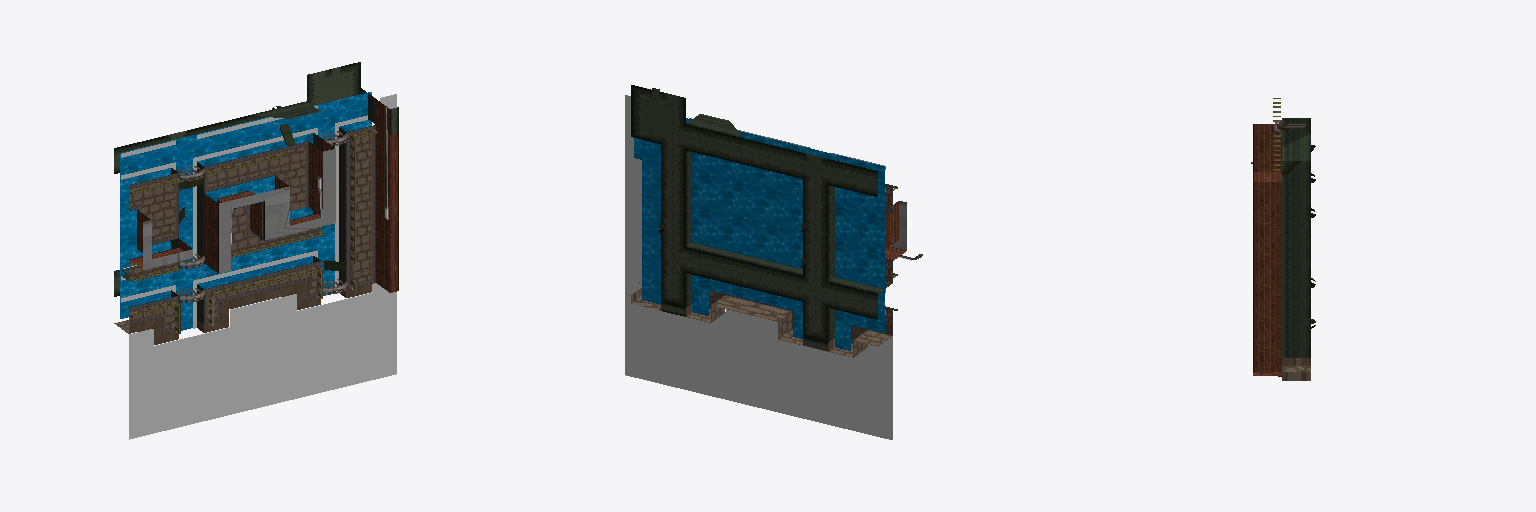
3 views of the same model, side by side, from view 1: azimuth 30°, elevation 25°; view 2: azimuth 150°, elevation 25°; view 3: azimuth 270°, elevation 25° (orthographic).
Parts seen in each view (by area): view 1: map; view 2: map; view 3: map.
Part boxes in pixels (bbox=[...]): map: bbox=[114, 62, 398, 439]; map: bbox=[625, 85, 922, 439]; map: bbox=[1251, 98, 1315, 380].
Size of the model in its own units: 33.88 by 35 by 7.5.
Materials: 22 (19 with a texture image).